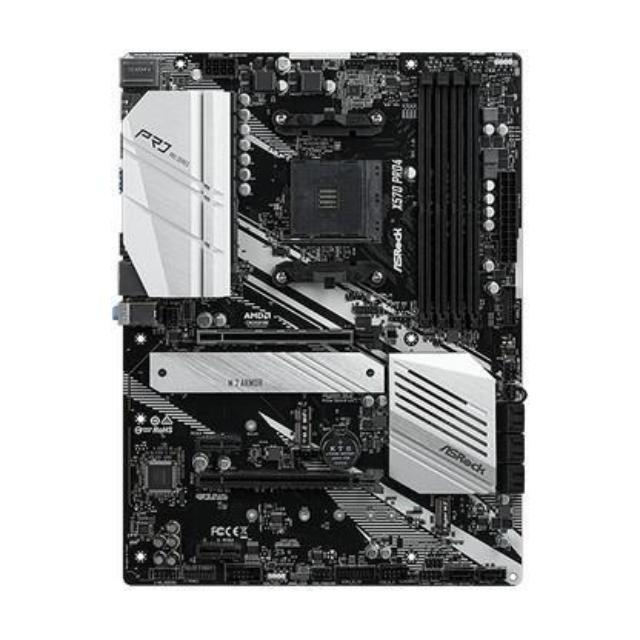Mainboard: (104, 30, 533, 601)
